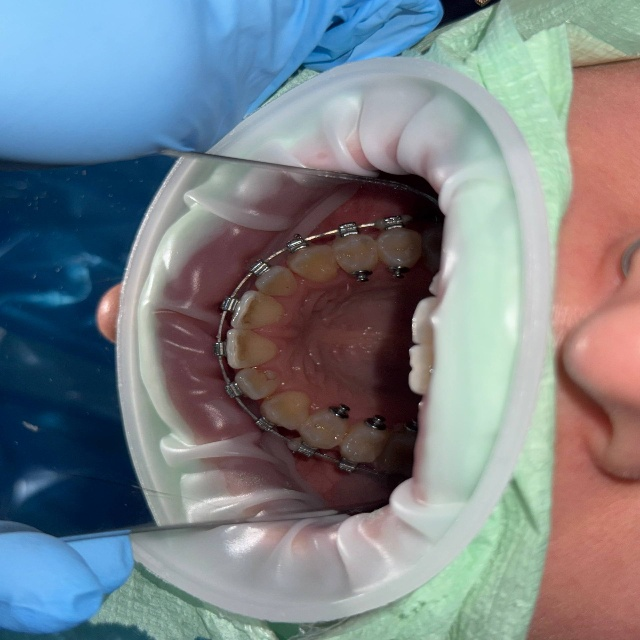clean_tooth: (208, 307, 228, 391)
plaque: (199, 0, 639, 631)
